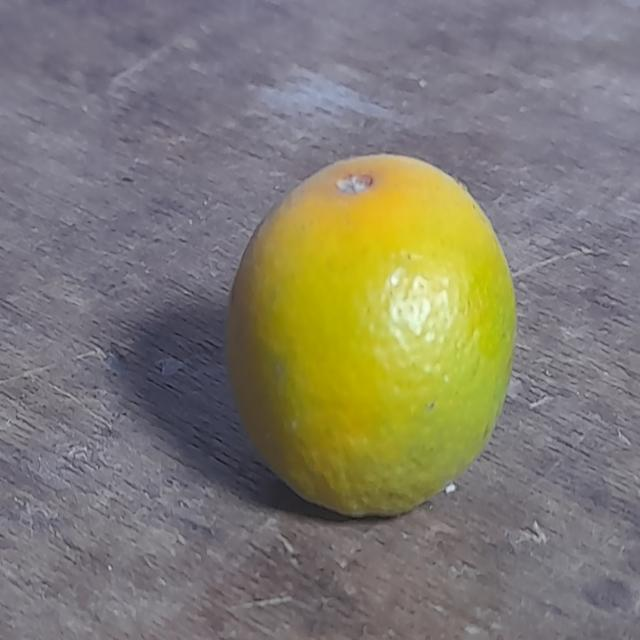greening: (226, 147, 518, 518)
